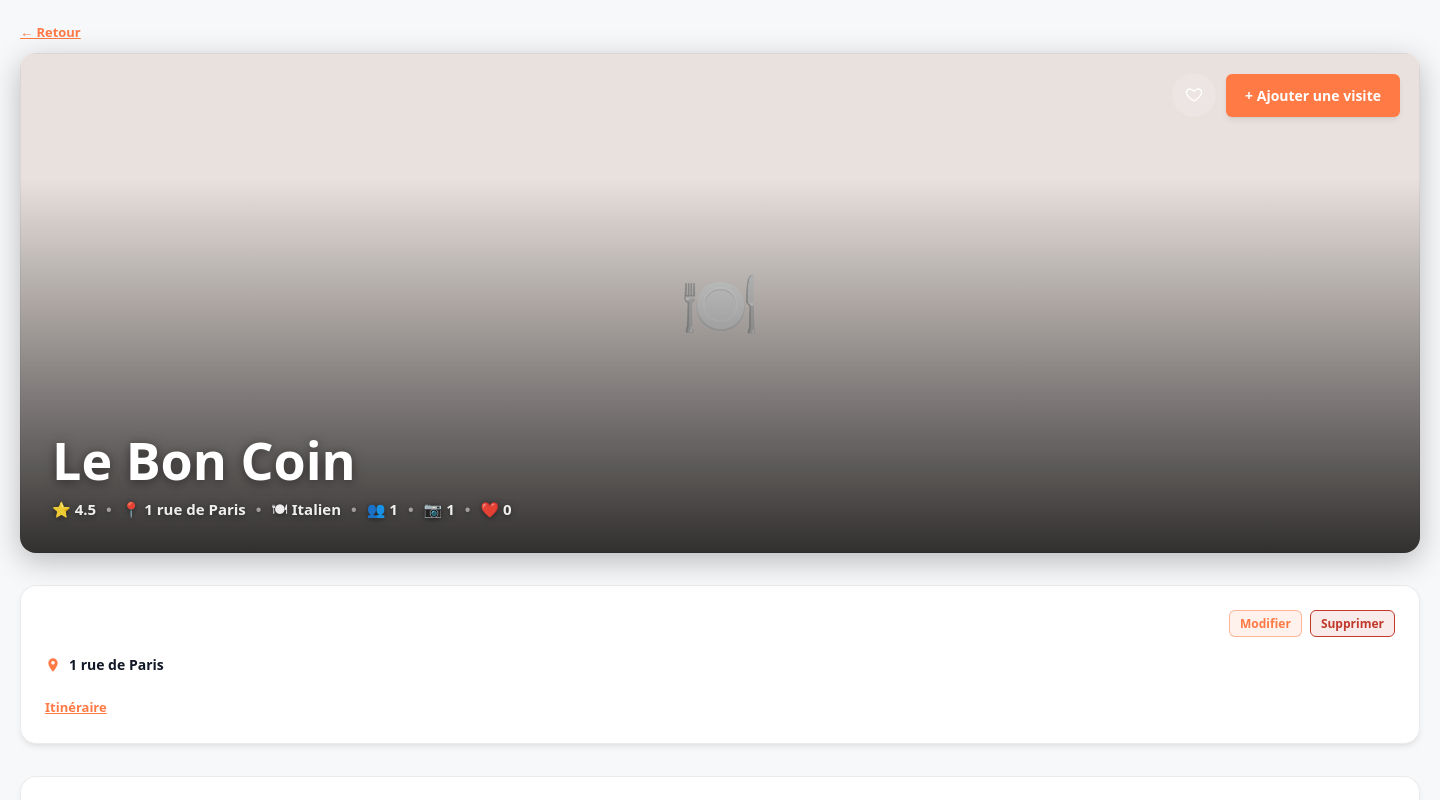
RestaurantDetailPage › affiche une erreur si la suppression du restaurant échoue
The width and height of the screenshot is (1440, 800).
Click the button "Supprimer" at (1352, 624), box [1310,610,1395,637]
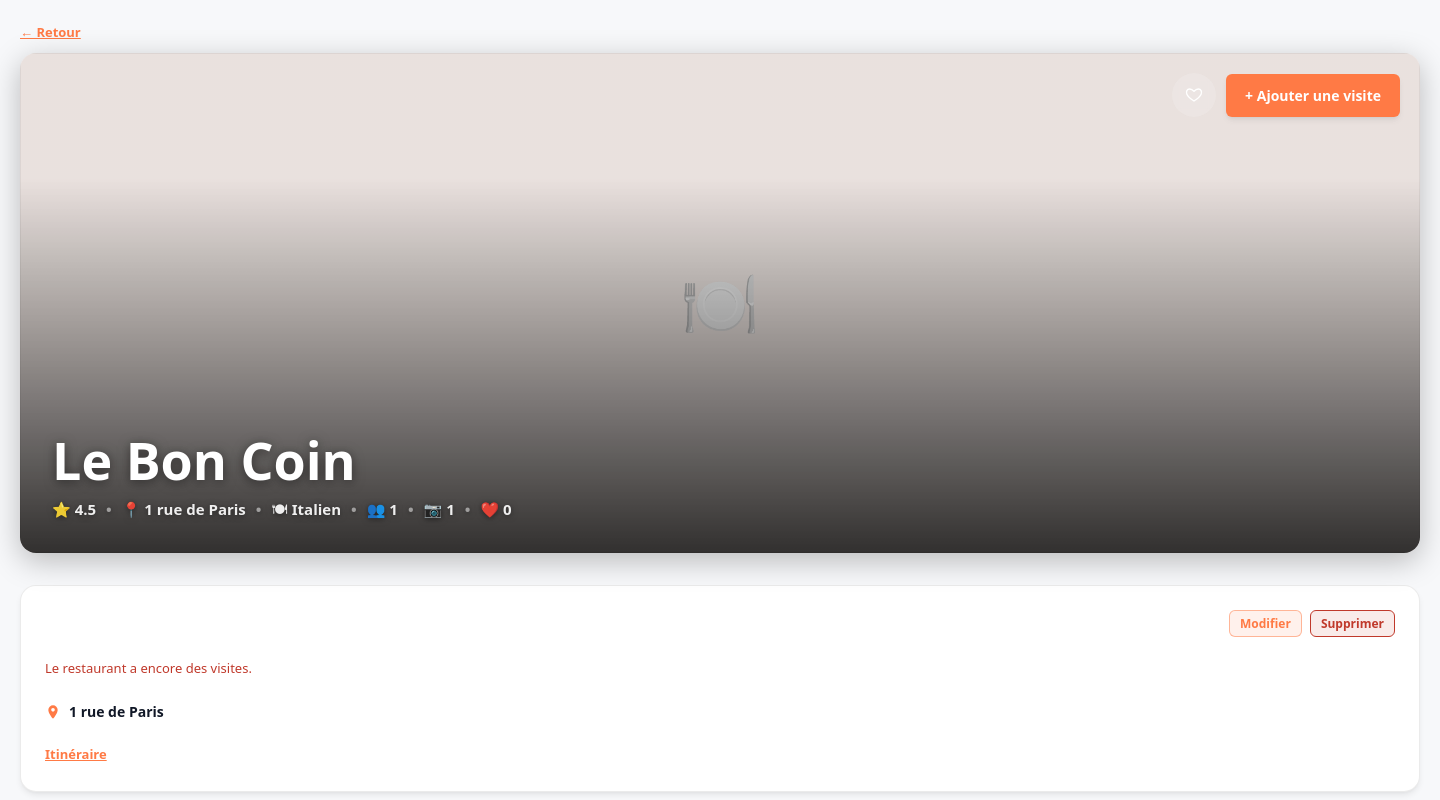
Check: the text "Le restaurant a encore des visites." is shown, box [45,659,252,677]
